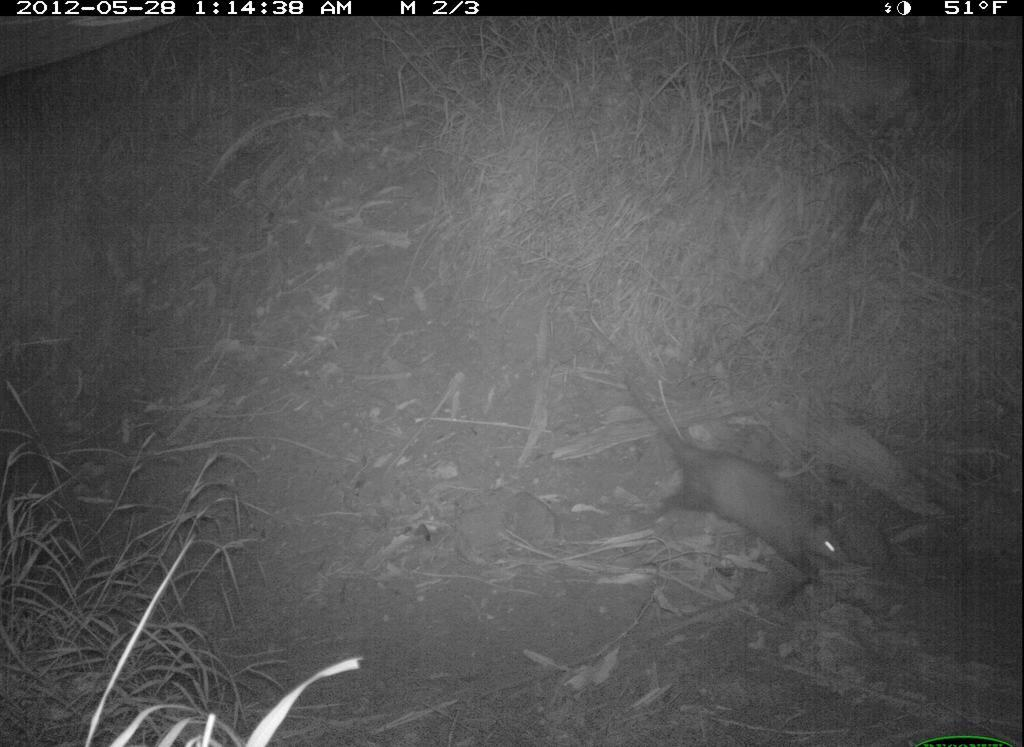opossum: (616, 364, 852, 610)
